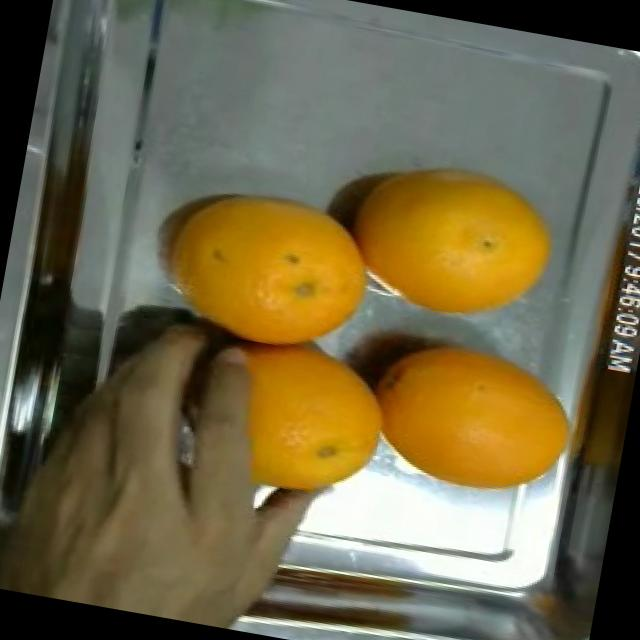Fruit: (154, 166, 403, 382), (342, 142, 580, 352), (360, 312, 592, 519)
